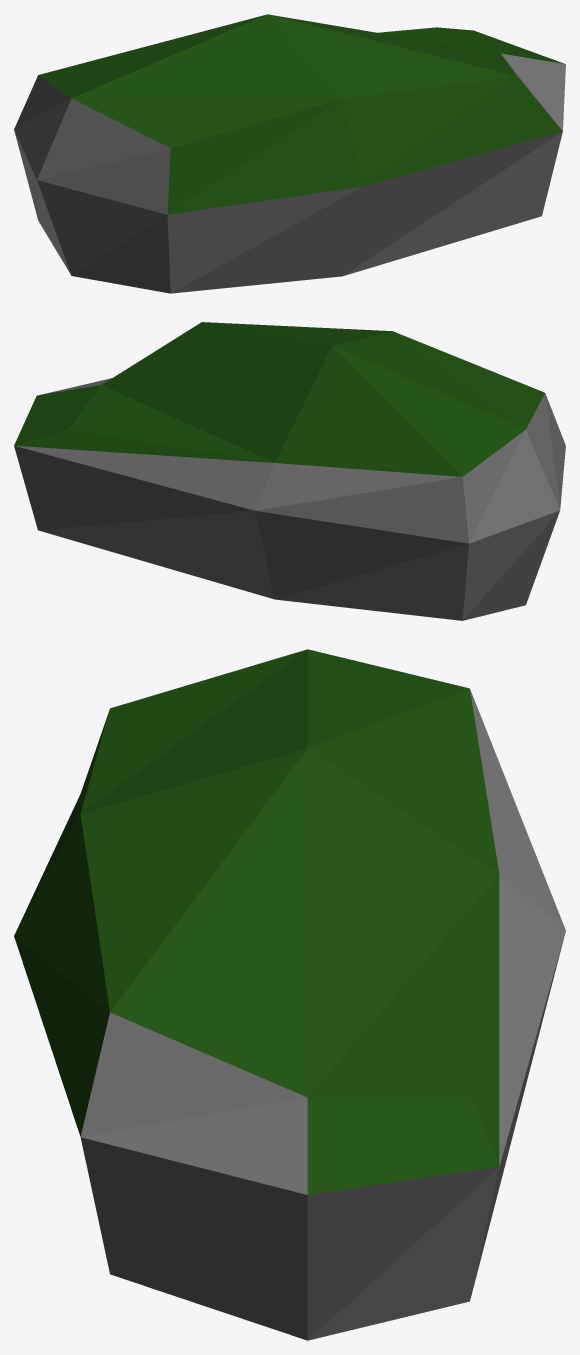
File: Stone2_5.fbx
3 renders of one model, top to bottom at view 1: azimuth 30°, elevation 25°; view 2: azimuth 150°, elevation 25°; view 3: azimuth 270°, elevation 25°, orthographic. The views are drawn at different scales.
Parts seen in each view (by area): view 1: Stone2_5; view 2: Stone2_5; view 3: Stone2_5.
Part boxes in pixels (x1,y1,x2,y2): Stone2_5: (14, 14, 565, 293); Stone2_5: (14, 322, 565, 620); Stone2_5: (14, 649, 565, 1340).
Size of the model in its own units: 91.07 by 37.33 by 49.4.
